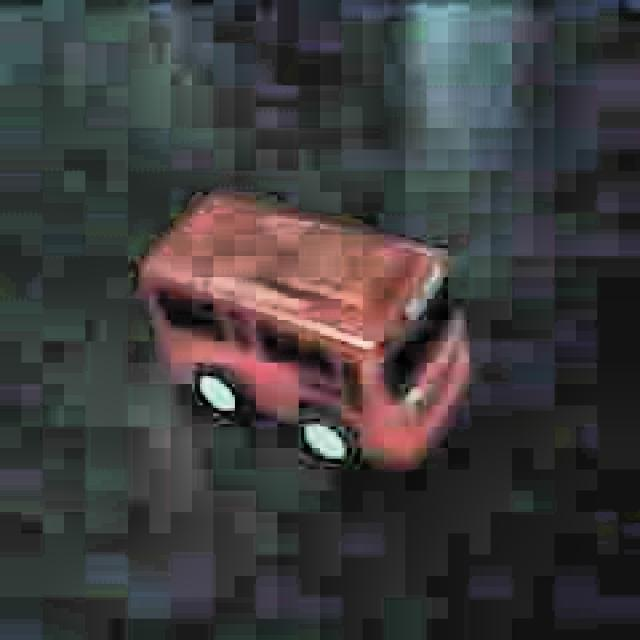bus: (131, 179, 480, 484)
